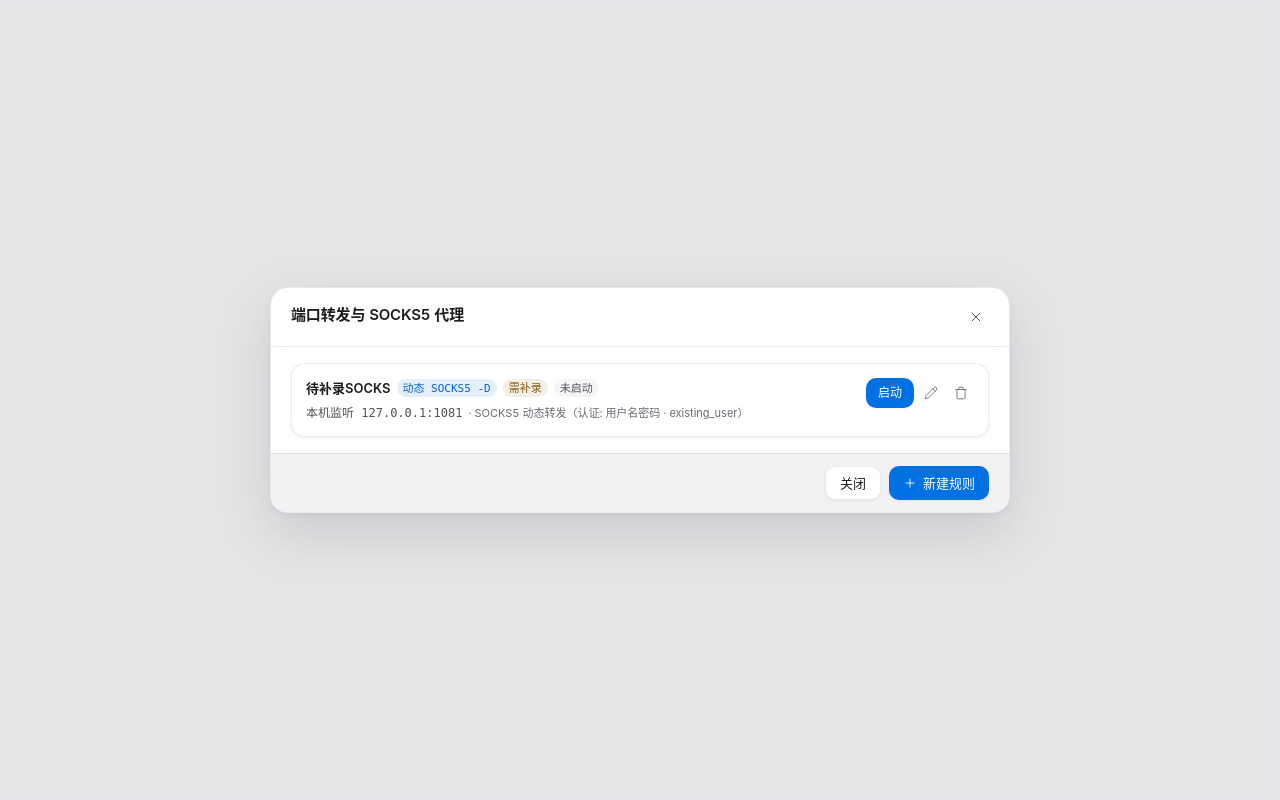
Test case: PortForwardModal dynamic socks authentication (BUG-011, BUG-012) › marks a rule needing credential re-entry and forces an explicit new password
Click the button named "编辑规则": (931, 393) [918, 380, 944, 406]
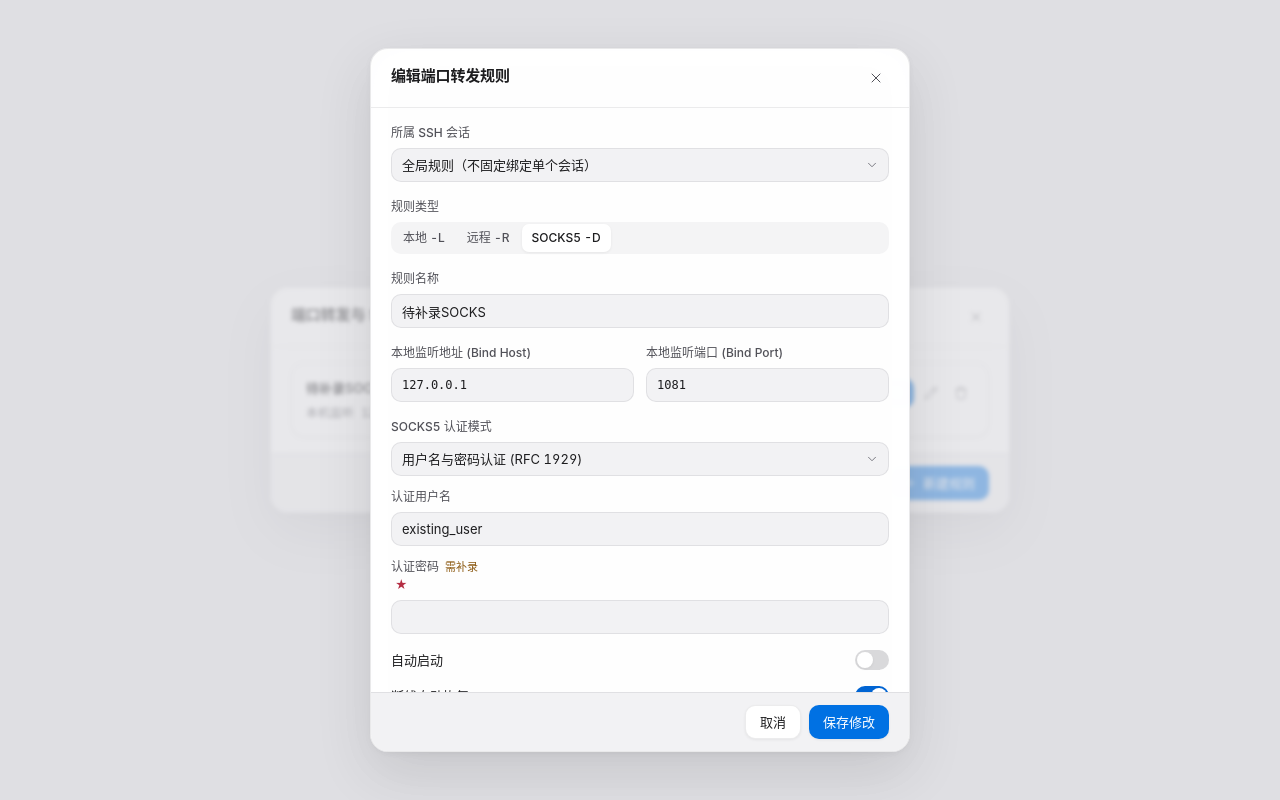
Click the button "保存修改": (849, 722) [809, 705, 889, 739]
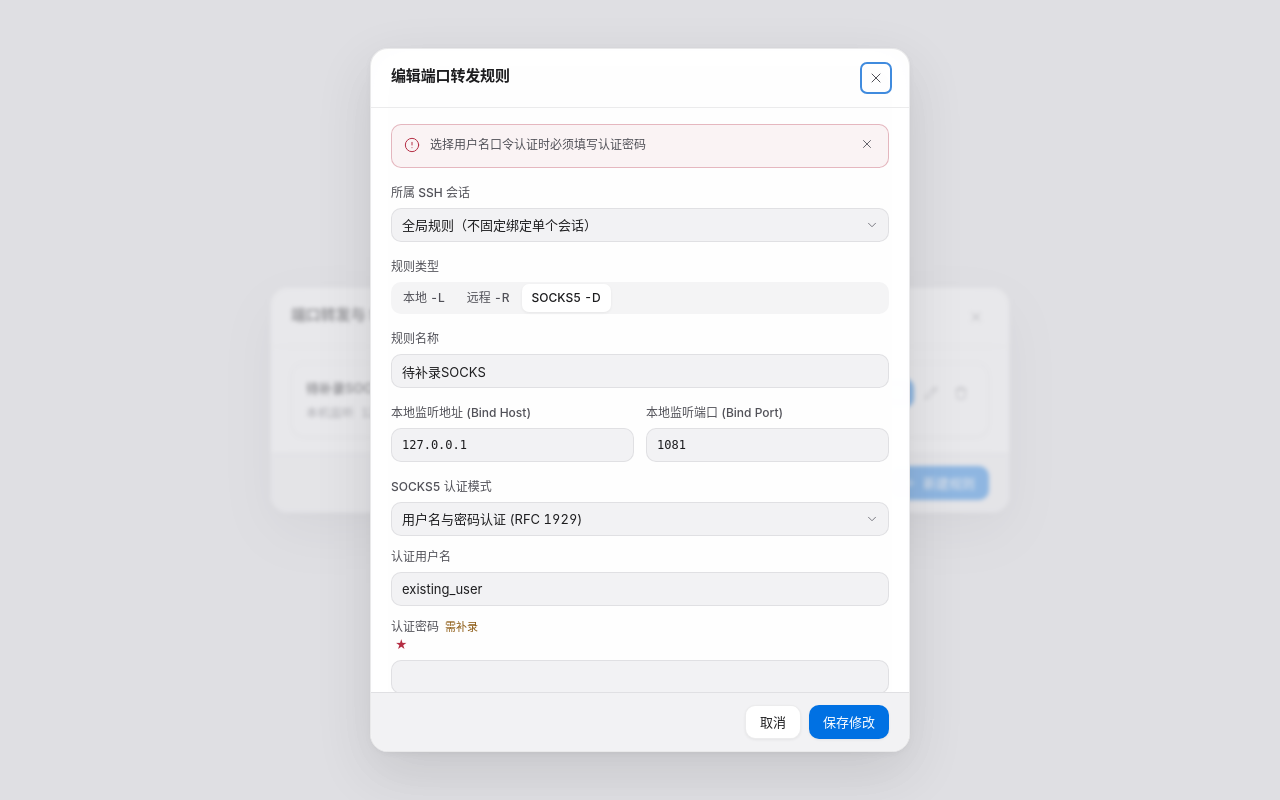
expect the text "必须填写认证密码" is shown: met, box [430, 137, 646, 152]
